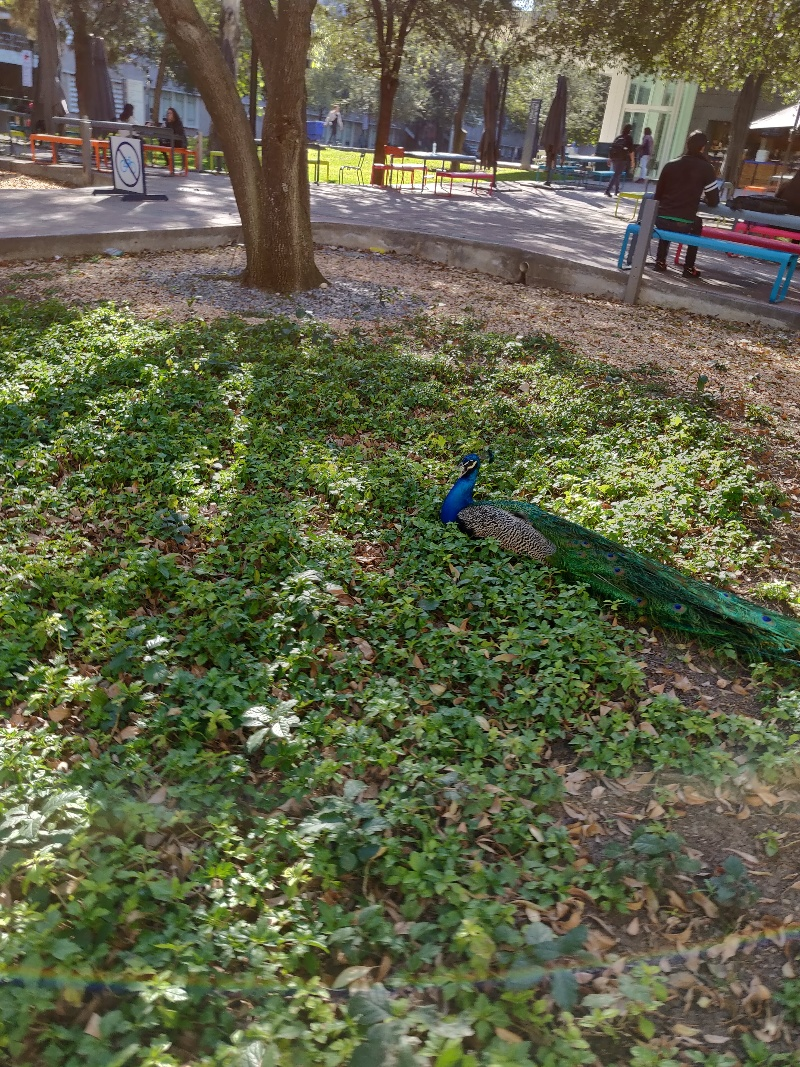pavoreal: (435, 453, 558, 553)
